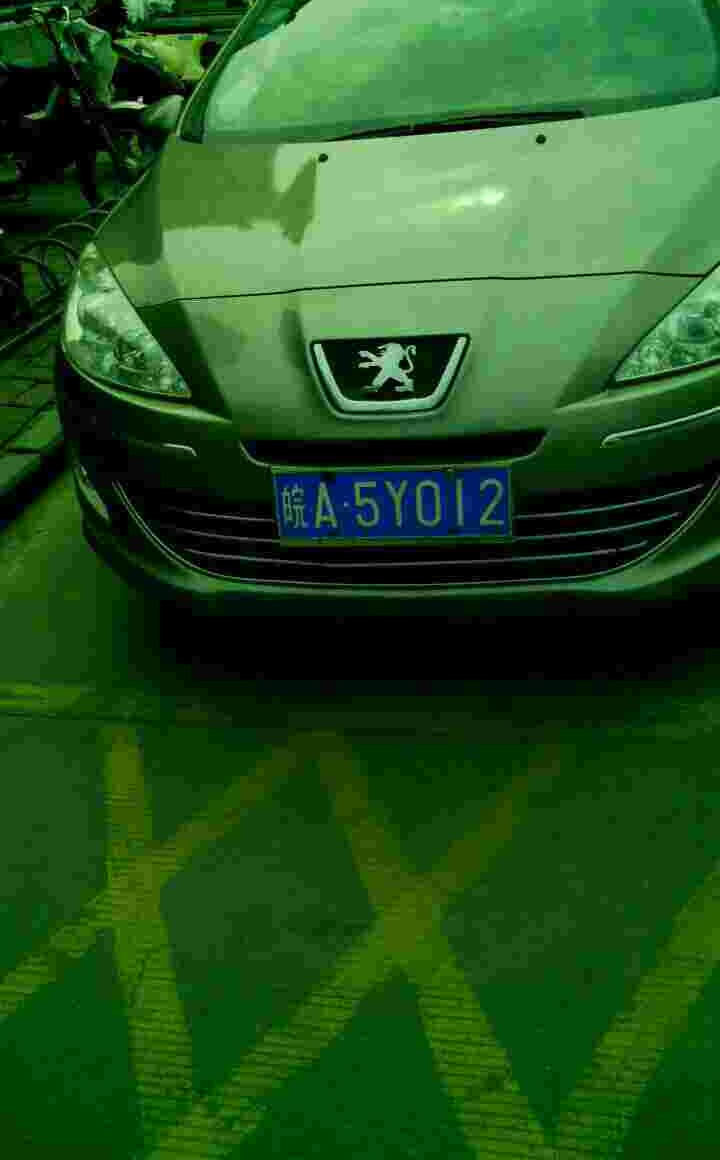license_plate: (258, 472, 505, 537)
